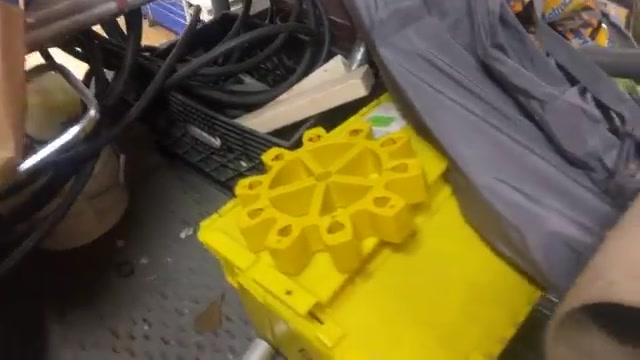gear: (228, 116, 427, 279)
